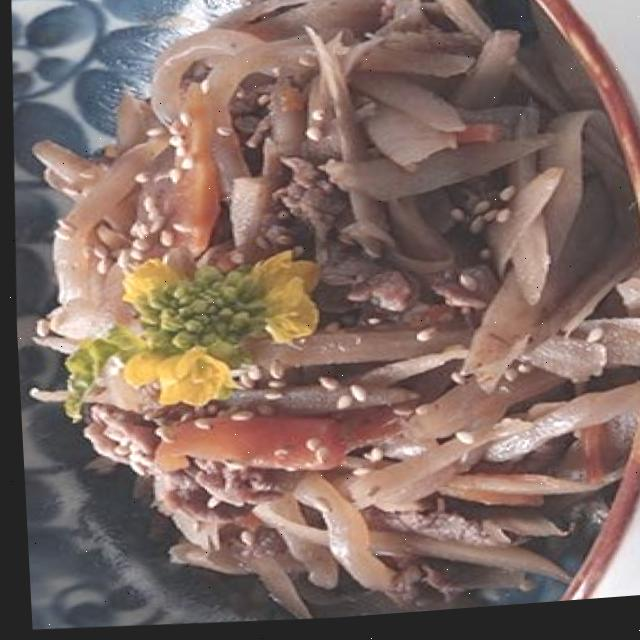蔬菜料理: (32, 0, 632, 610)
